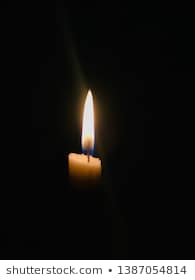Fire: (80, 87, 98, 151)
